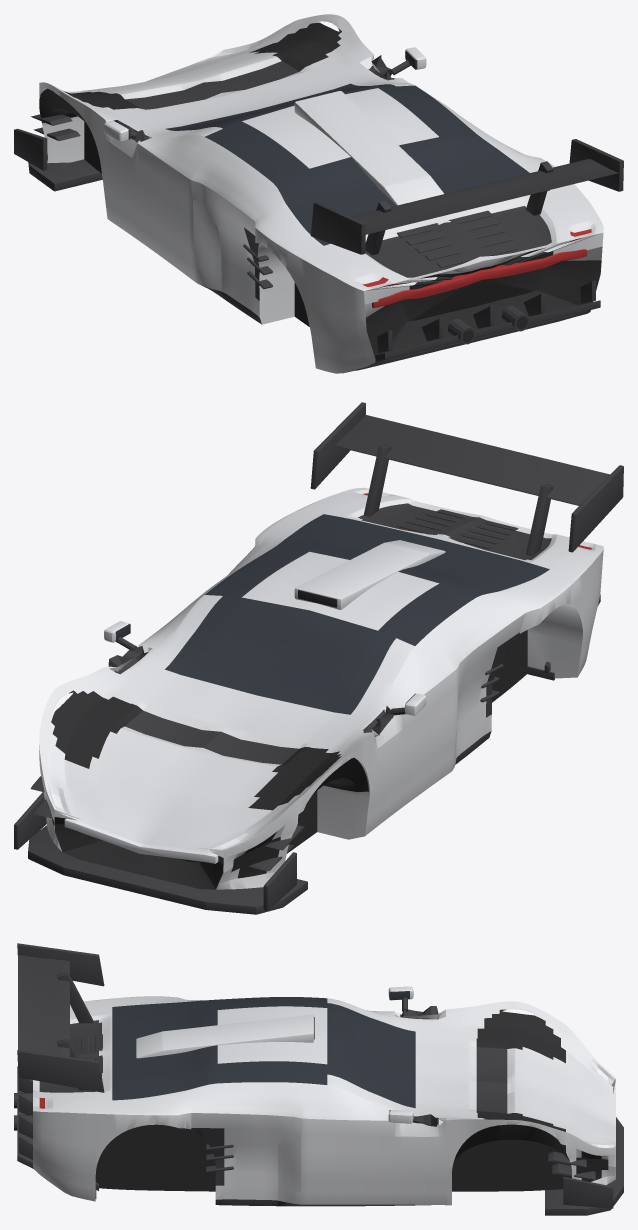
File: exo_hyper_a.glb
3 renders of one model, top to bottom at view 1: azimuth 30°, elevation 25°; view 2: azimuth 150°, elevation 25°; view 3: azimuth 270°, elevation 25°, orthographic. The views are drawn at different scales.
Visible parts, largest first — view 1: exo_hyper_a; view 2: exo_hyper_a; view 3: exo_hyper_a.
Boxes of the visible parts, <box> form: exo_hyper_a: <box>14,14,623,373</box>; exo_hyper_a: <box>14,402,623,914</box>; exo_hyper_a: <box>14,943,623,1215</box>.
Size of the model in its own units: 2.31 by 1.39 by 4.62.
